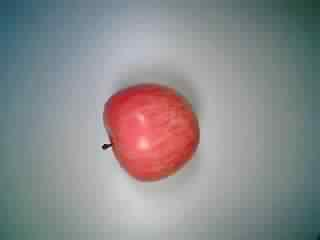apple: (96, 82, 201, 184)
